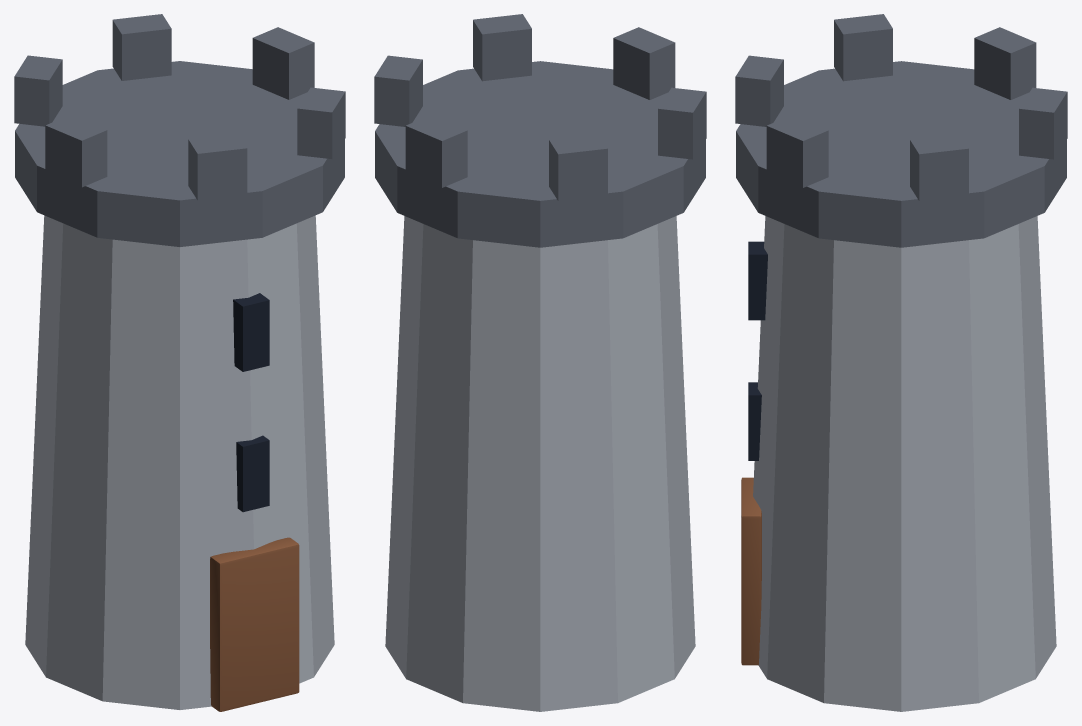
The model's file is tower.glb.
3 renders of one model, left to right at view 1: azimuth 30°, elevation 25°; view 2: azimuth 150°, elevation 25°; view 3: azimuth 270°, elevation 25°, orthographic.
Visible parts, largest first — view 1: tower; view 2: tower; view 3: tower.
Part boxes in pixels (x1,y1,x2,y2): tower: [14, 14, 345, 711]; tower: [374, 14, 706, 711]; tower: [735, 14, 1067, 711].
Bounding box in the file's own units: 3.21 × 6 × 3.21.
